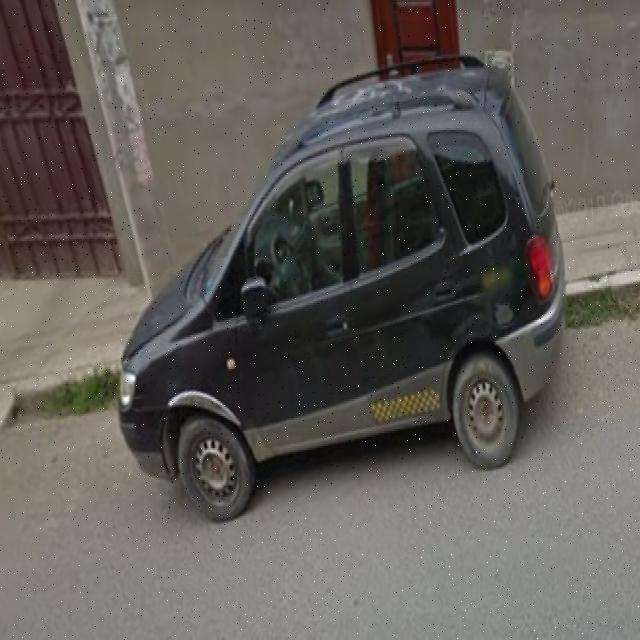cars: (114, 55, 566, 515)
